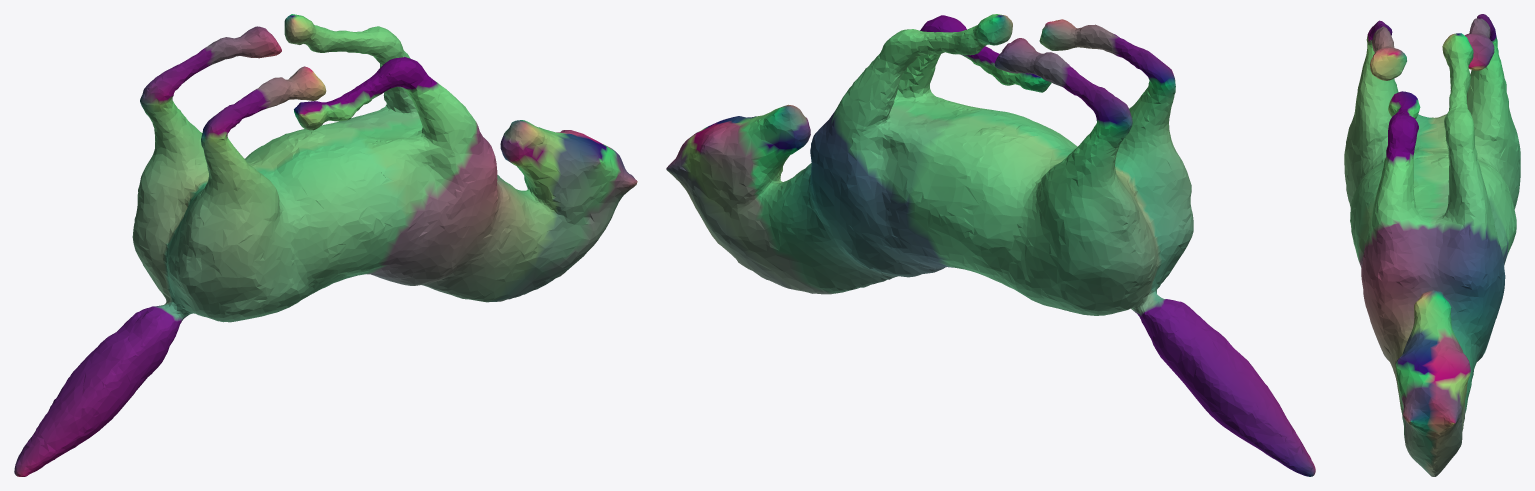
Rendered from horse-10.off.obj.
3 views of the same model, side by side, from view 1: azimuth 30°, elevation 25°; view 2: azimuth 150°, elevation 25°; view 3: azimuth 270°, elevation 25° (orthographic). The views are drawn at different scales.
Bounding box in the file's own units: 1.48 × 0.8813 × 0.3648.
